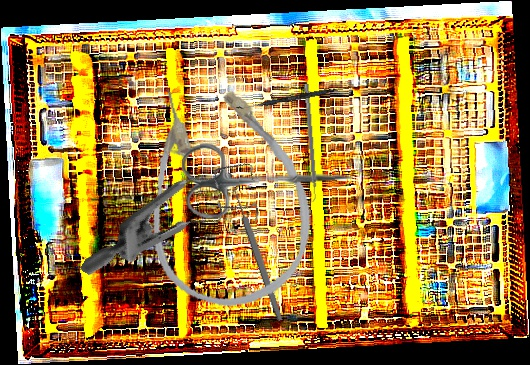Cannula: (125, 65, 326, 319)
Iris Scissors: (181, 135, 355, 221)
Spatula Surgical: (235, 82, 352, 114), (298, 83, 320, 203)
Speculum: (79, 117, 280, 335)
Surgical Spoon: (225, 171, 285, 322)
